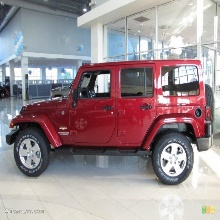no damage: (5, 59, 214, 186)
